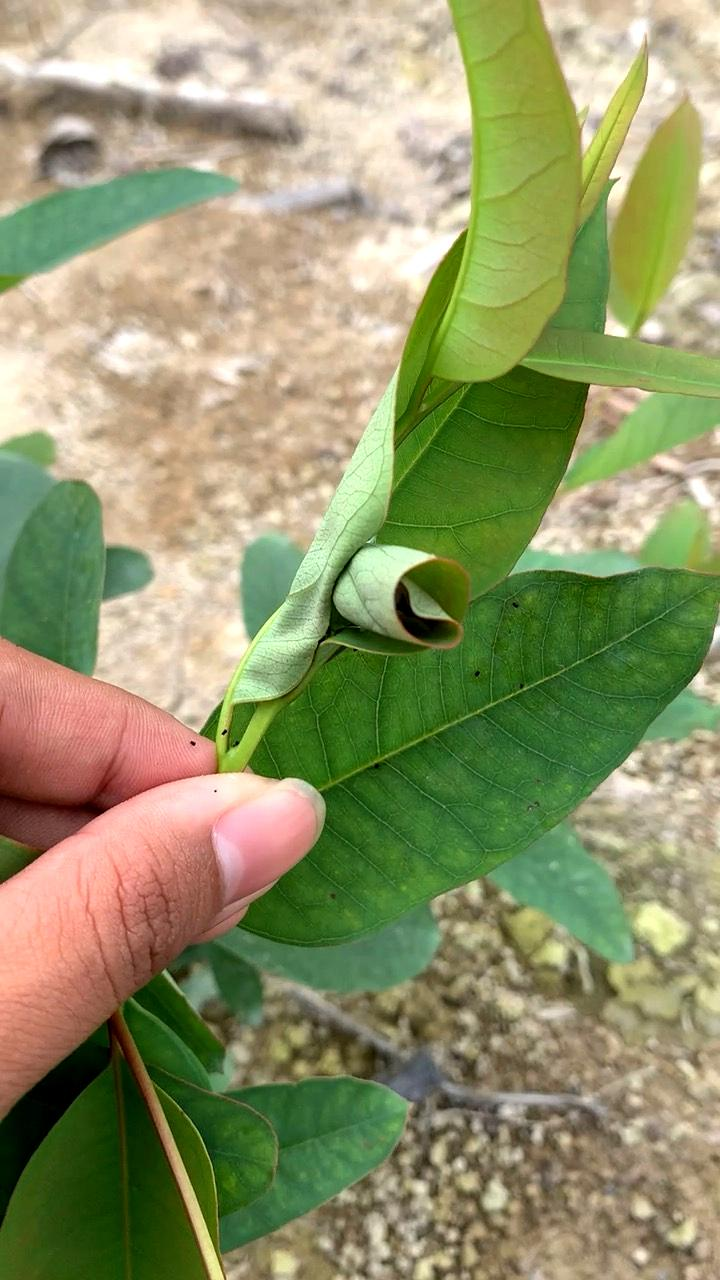Leaf Roller - Leaf: (230, 483, 485, 680)
